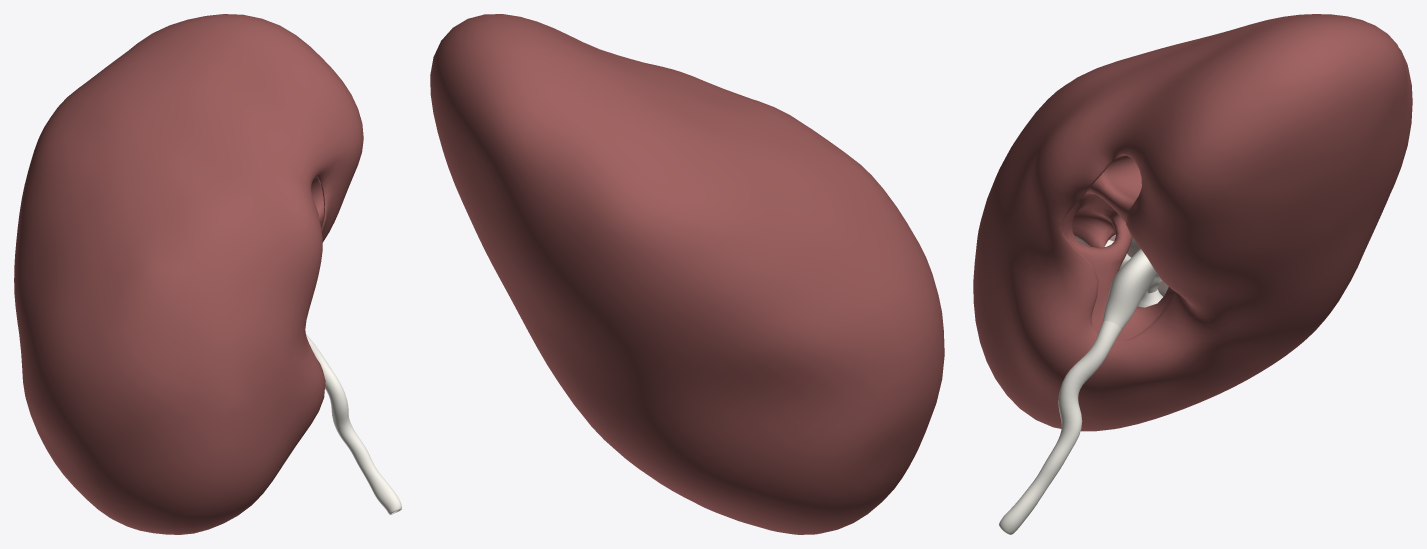
Rendered from VH_F_Kidney_Right.glb.
3 renders of one model, left to right at view 1: azimuth 30°, elevation 25°; view 2: azimuth 150°, elevation 25°; view 3: azimuth 270°, elevation 25°, orthographic. The views are drawn at different scales.
Visible parts, largest first — view 1: VHF_kidney_capsule_R, VHF_ureter_R_a; view 2: VHF_kidney_capsule_R; view 3: VHF_kidney_capsule_R, VHF_hilum_of_kidney_R, VHF_ureter_R_a, VHF_renal_pelvis_R.
Part boxes in pixels (x1,y1,x2,y2): VHF_kidney_capsule_R: (14,14,363,534); VHF_ureter_R_a: (307,336,401,514); VHF_kidney_capsule_R: (430,14,944,534); VHF_kidney_capsule_R: (973,14,1412,431); VHF_hilum_of_kidney_R: (1062,154,1174,340); VHF_ureter_R_a: (999,320,1121,534); VHF_renal_pelvis_R: (1102,249,1157,330).
Bounding box in the file's own units: 0.0781 × 0.0902 × 0.074.
